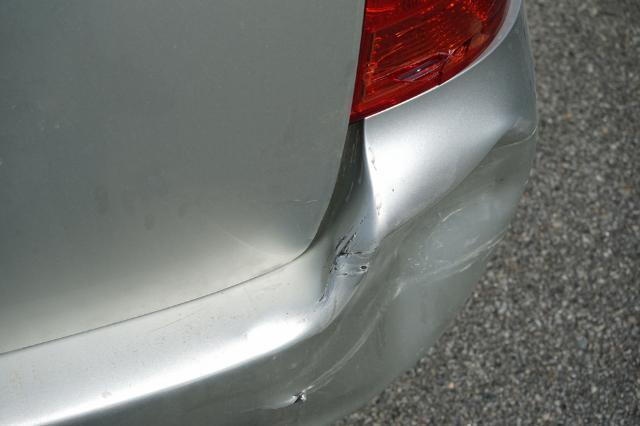Bumper: (207, 1, 540, 426)
